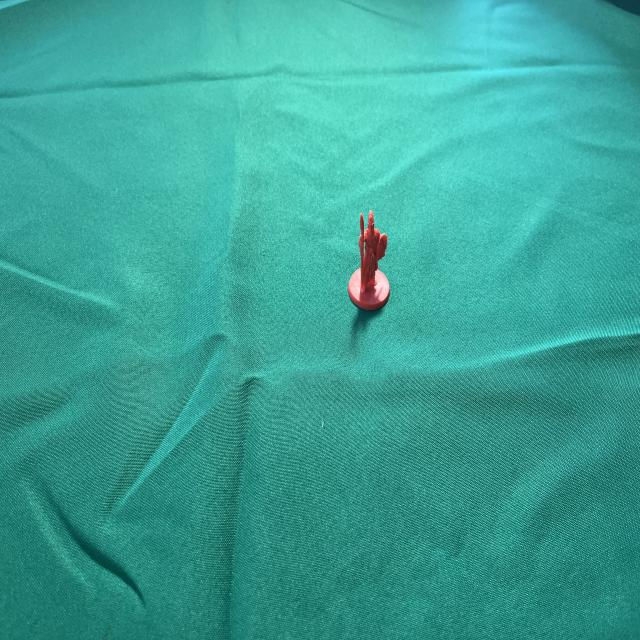amon_follower: (348, 210, 390, 310)
